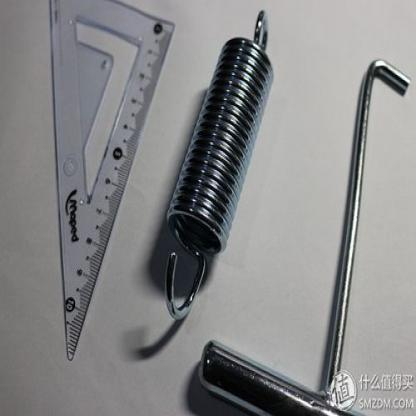FOD: (159, 4, 275, 328)
